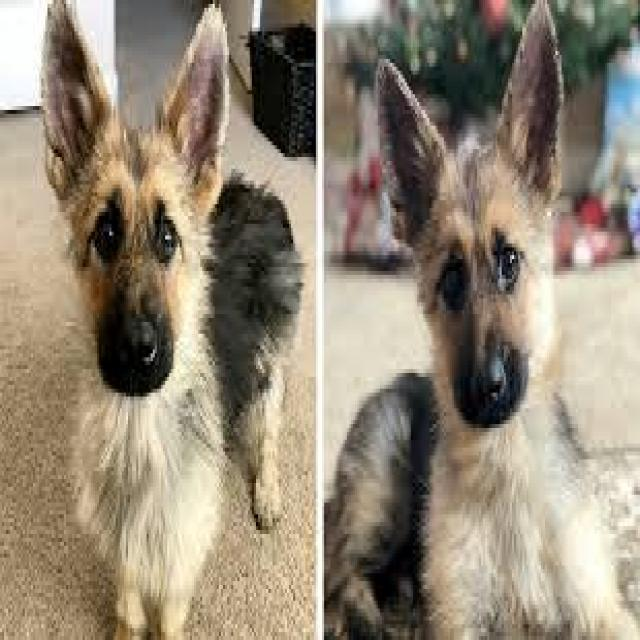Dog: (334, 1, 609, 640), (35, 1, 303, 640)
